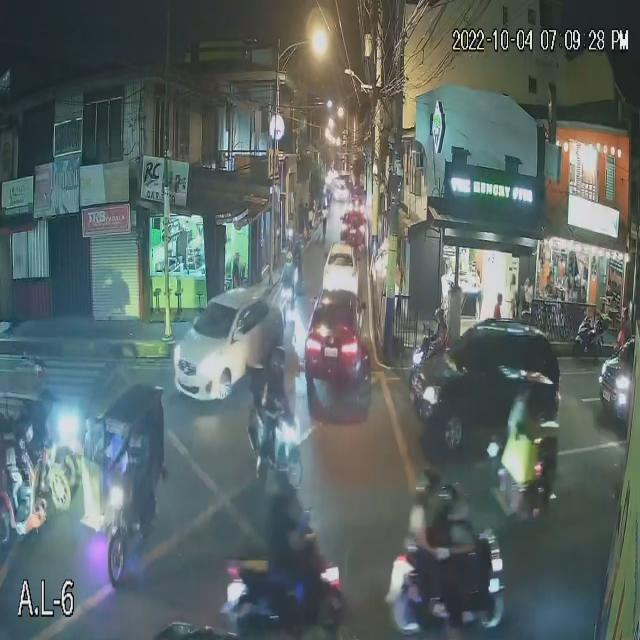helmet: (414, 470, 439, 496), (266, 346, 288, 375), (433, 488, 460, 511), (433, 305, 447, 323), (283, 250, 297, 267)
motorcycle: (385, 521, 506, 638), (219, 550, 349, 639), (247, 408, 305, 487), (408, 323, 433, 364), (276, 284, 299, 321)
rider: (435, 515, 473, 640), (405, 500, 439, 617), (250, 379, 293, 455), (431, 322, 452, 350), (282, 263, 299, 284)
